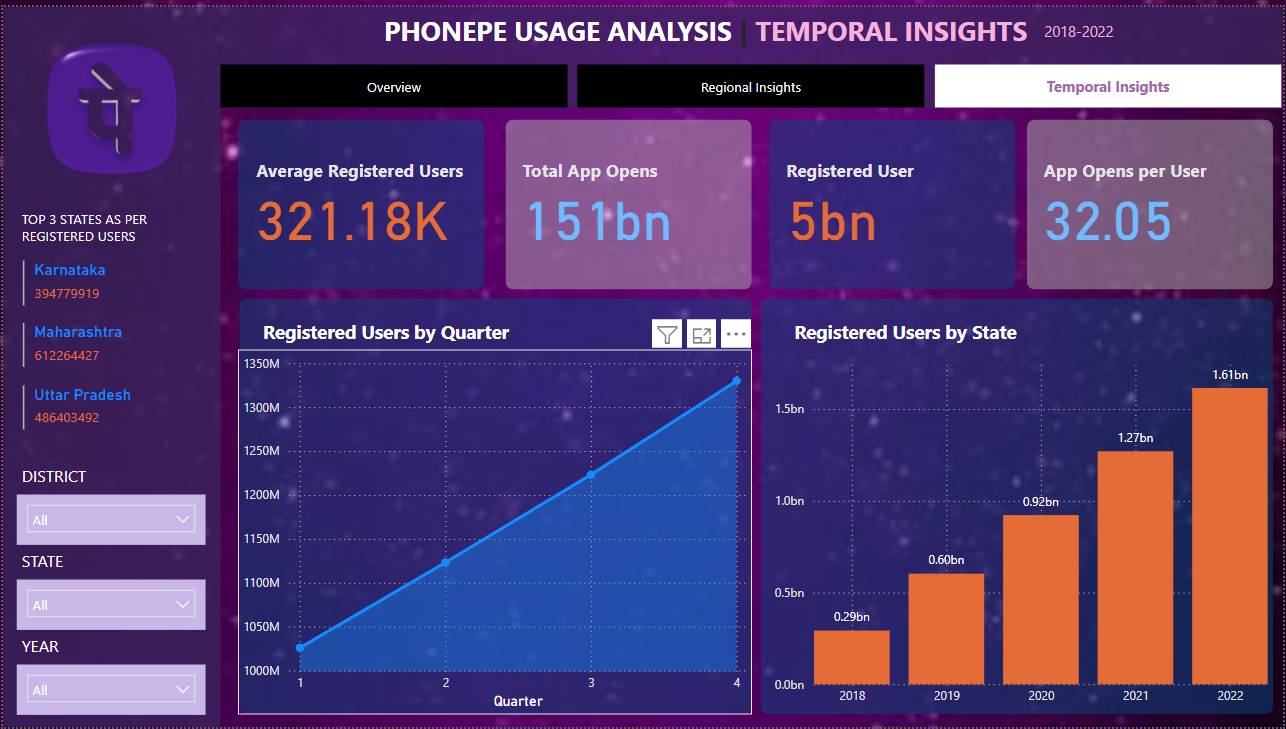

This screenshot's page, from the dashboard's own definition file:
{"tool":"powerbi","page":{"name":"Temporal Insights","canvas":[1280,720],"ordinal":2},"visuals":[{"type":"shape","box":[757.5,291.2,512.5,416.2],"z":0},{"type":"shape","box":[236.2,291.2,512.5,416.2],"z":1000},{"type":"shape","box":[235,112.5,246.2,170],"z":2000},{"type":"cardVisual","fields":{"Data":["Map_Users.Average Registered Users"]},"box":[236.2,112.5,246.2,170],"z":3000},{"type":"shape","box":[217.5,0,1062.5,57.5],"z":4000},{"type":"shape","box":[217.5,57.5,1062.5,43.8],"z":5000},{"type":"shape","box":[0,101.2,217.5,618.8],"z":6000},{"type":"shape","box":[0,0,217.5,101.2],"z":7000},{"type":"textbox","box":[13.8,452.5,188.8,35],"z":8000},{"type":"textbox","box":[152.5,0,1100,51.2],"z":9000},{"type":"shape","box":[502.5,112.5,246.2,170],"z":10000},{"type":"shape","box":[766.2,112.5,246.2,170],"z":11000},{"type":"shape","box":[1023.8,112.5,246.2,170],"z":12000},{"type":"cardVisual","fields":{"Data":["Map_Users.Registered User"]},"box":[766.2,112.5,246.2,170],"z":14000},{"type":"cardVisual","fields":{"Data":["Agg_Trans.Total Users"]},"box":[1023.8,112.5,246.2,170],"z":15000},{"type":"lineChart","fields":{"Category":["Map_Users.Quarter"],"Y":["Sum(Map_Users.Registered_users)"]},"box":[235,342.5,513.8,365],"z":16000},{"type":"columnChart","fields":{"Y":["Sum(Map_Users.Registered_users)"],"Category":["Map_Users.Year"]},"box":[766.2,342.5,503.8,365],"z":17000},{"type":"textbox","box":[786.2,307.5,388.8,35],"z":18000},{"type":"textbox","box":[255,307.5,325,35],"z":19000},{"type":"slicer","fields":{"Values":["Map_Trans.State"]},"box":[13.8,572.5,188.8,50],"z":20000},{"type":"slicer","fields":{"Values":["Map_Users.Year"]},"box":[13.8,657.5,188.8,50],"z":21000},{"type":"textbox","box":[13.8,622.5,188.8,35],"z":22000},{"type":"slicer","fields":{"Values":["Map_Users.District"]},"box":[13.8,487.5,188.8,50],"z":23000},{"type":"textbox","box":[13.8,537.5,188.8,35],"z":24000},{"type":"image","box":[0,0,217.5,203.8],"z":25000},{"type":"multiRowCard","fields":{"Values":["Map_Users.State","Sum(Map_Users.Registered_users)"]},"box":[15,248.8,188.8,203.8],"z":26000},{"type":"textbox","box":[13.8,197.5,188.8,51.2],"z":27000},{"type":"pageNavigator","box":[217.5,57.5,1062.5,43.8],"z":28000},{"type":"textbox","box":[1036.2,8.8,188.8,40],"z":29000},{"type":"cardVisual","fields":{"Data":["Sum(Map_Users.App_opens)"]},"box":[502.5,112.5,246.2,170],"z":30000}]}

Visuals, with their boxes in screenshot pixels (x1, y1, x2, y2), scaled from the page's 1280x720 canvas onto the 1286x729 screenshot:
shape: region(761, 295, 1276, 716)
shape: region(237, 295, 752, 716)
shape: region(236, 114, 483, 286)
cardVisual - Map_Users.Average Registered Users: region(237, 114, 485, 286)
shape: region(219, 0, 1285, 58)
shape: region(219, 58, 1285, 103)
shape: region(0, 102, 219, 728)
shape: region(0, 0, 219, 102)
textbox: region(14, 458, 204, 494)
textbox: region(153, 0, 1258, 52)
shape: region(505, 114, 752, 286)
shape: region(770, 114, 1017, 286)
shape: region(1029, 114, 1276, 286)
cardVisual - Map_Users.Registered User: region(770, 114, 1017, 286)
cardVisual - Agg_Trans.Total Users: region(1029, 114, 1276, 286)
lineChart - Map_Users.Quarter x Sum(Map_Users.Registered_users): region(236, 347, 752, 716)
columnChart - Sum(Map_Users.Registered_users) x Map_Users.Year: region(770, 347, 1276, 716)
textbox: region(790, 311, 1181, 347)
textbox: region(256, 311, 583, 347)
slicer - Map_Trans.State: region(14, 580, 204, 630)
slicer - Map_Users.Year: region(14, 666, 204, 716)
textbox: region(14, 630, 204, 666)
slicer - Map_Users.District: region(14, 494, 204, 544)
textbox: region(14, 544, 204, 580)
image: region(0, 0, 219, 206)
multiRowCard - Map_Users.State x Sum(Map_Users.Registered_users): region(15, 252, 205, 458)
textbox: region(14, 200, 204, 252)
pageNavigator: region(219, 58, 1285, 103)
textbox: region(1041, 9, 1231, 49)
cardVisual - Sum(Map_Users.App_opens): region(505, 114, 752, 286)
